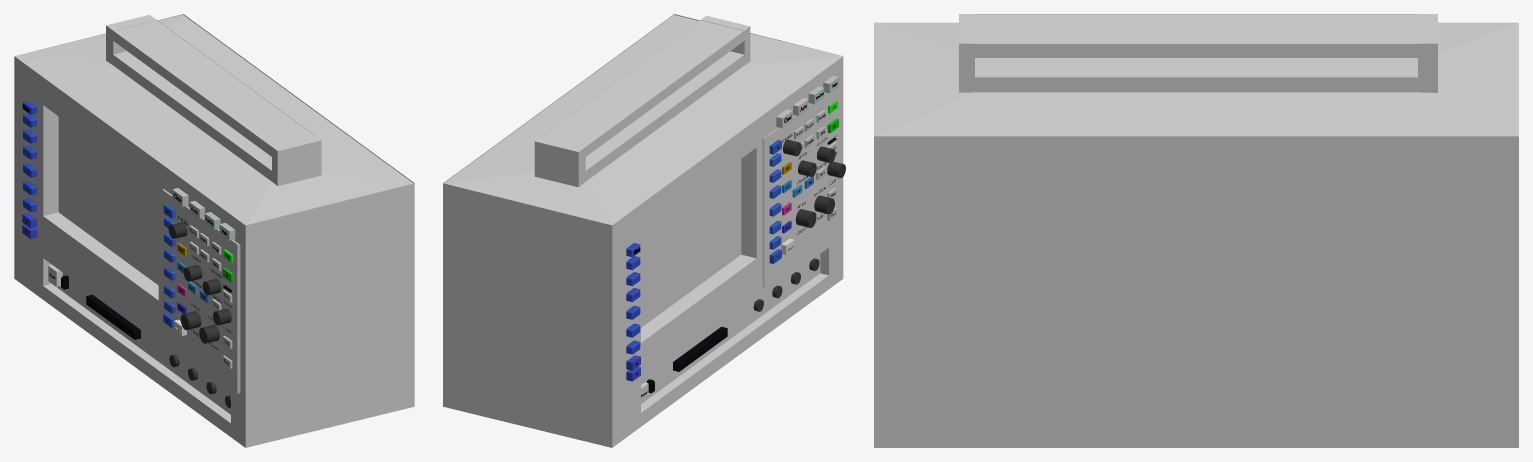
Rendered from OOO.FBX.
3 renders of one model, left to right at view 1: azimuth 30°, elevation 25°; view 2: azimuth 150°, elevation 25°; view 3: azimuth 270°, elevation 25°, orthographic. The views are drawn at different scales.
Visible parts, largest first — view 1: OOO; view 2: OOO; view 3: OOO.
Boxes of the visible parts, x1=… form: OOO: x1=14, y1=14, x2=414, y2=447; OOO: x1=443, y1=14, x2=845, y2=447; OOO: x1=874, y1=14, x2=1518, y2=447.
Bounding box in the file's own units: 51.59 × 112 × 69.49.
